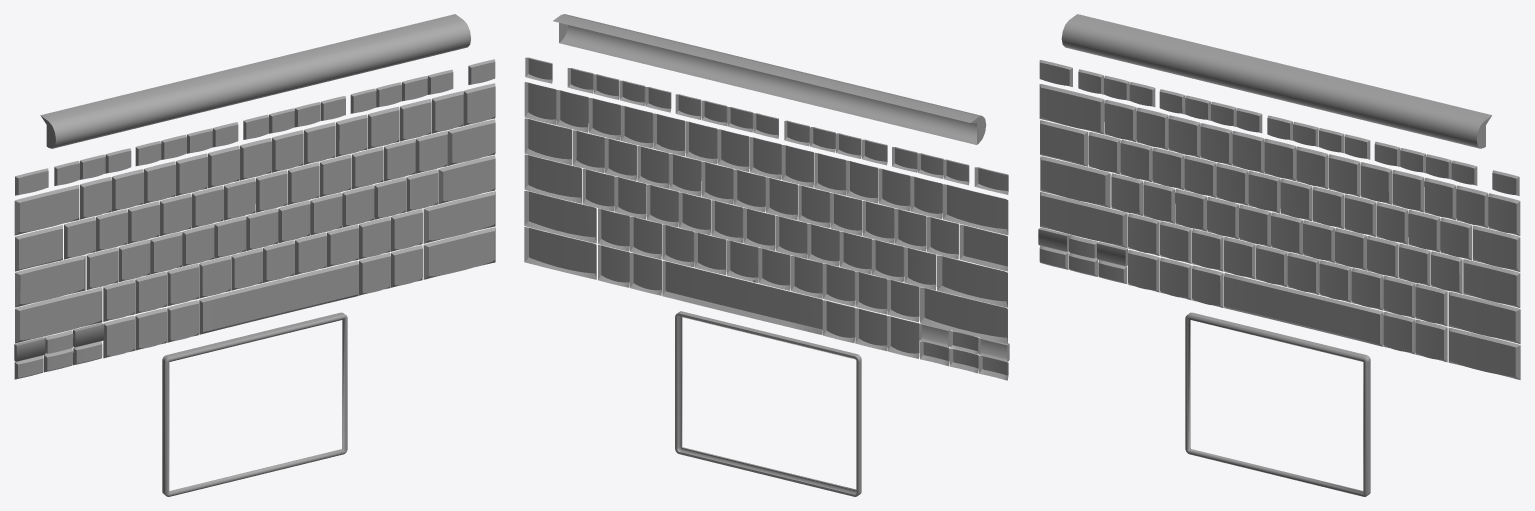
Rendered from MainMeshLaptop_3_0_GeomSubset_1.obj.
3 views of the same model, side by side, from view 1: azimuth 30°, elevation 25°; view 2: azimuth 150°, elevation 25°; view 3: azimuth 330°, elevation 25° (orthographic).
Parts seen in each view (by area): view 1: MainMeshLaptop_3_0_GeomSubset_1; view 2: MainMeshLaptop_3_0_GeomSubset_1; view 3: MainMeshLaptop_3_0_GeomSubset_1.
Part boxes in pixels (left/top/right/bottom): MainMeshLaptop_3_0_GeomSubset_1: left=14, top=14, right=495, bottom=496; MainMeshLaptop_3_0_GeomSubset_1: left=524, top=14, right=1009, bottom=496; MainMeshLaptop_3_0_GeomSubset_1: left=1038, top=14, right=1520, bottom=496.
Bounding box in the file's own units: 0.3294 × 0.2649 × 0.0271.
